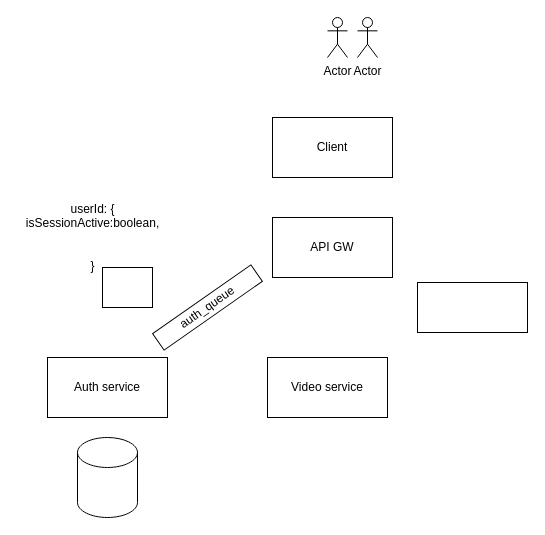
The diagram is 545 pixels wide and 535 high, and some of its shapes have lost their labels. The shapes that lost their labels are listed below. From the top down, each one's centre as x and y in pixels, then its label:
At pixel 127 287: "session cache".
At pixel 472 307: "Cache invalidation service".
At pixel 107 477: "Account db".
